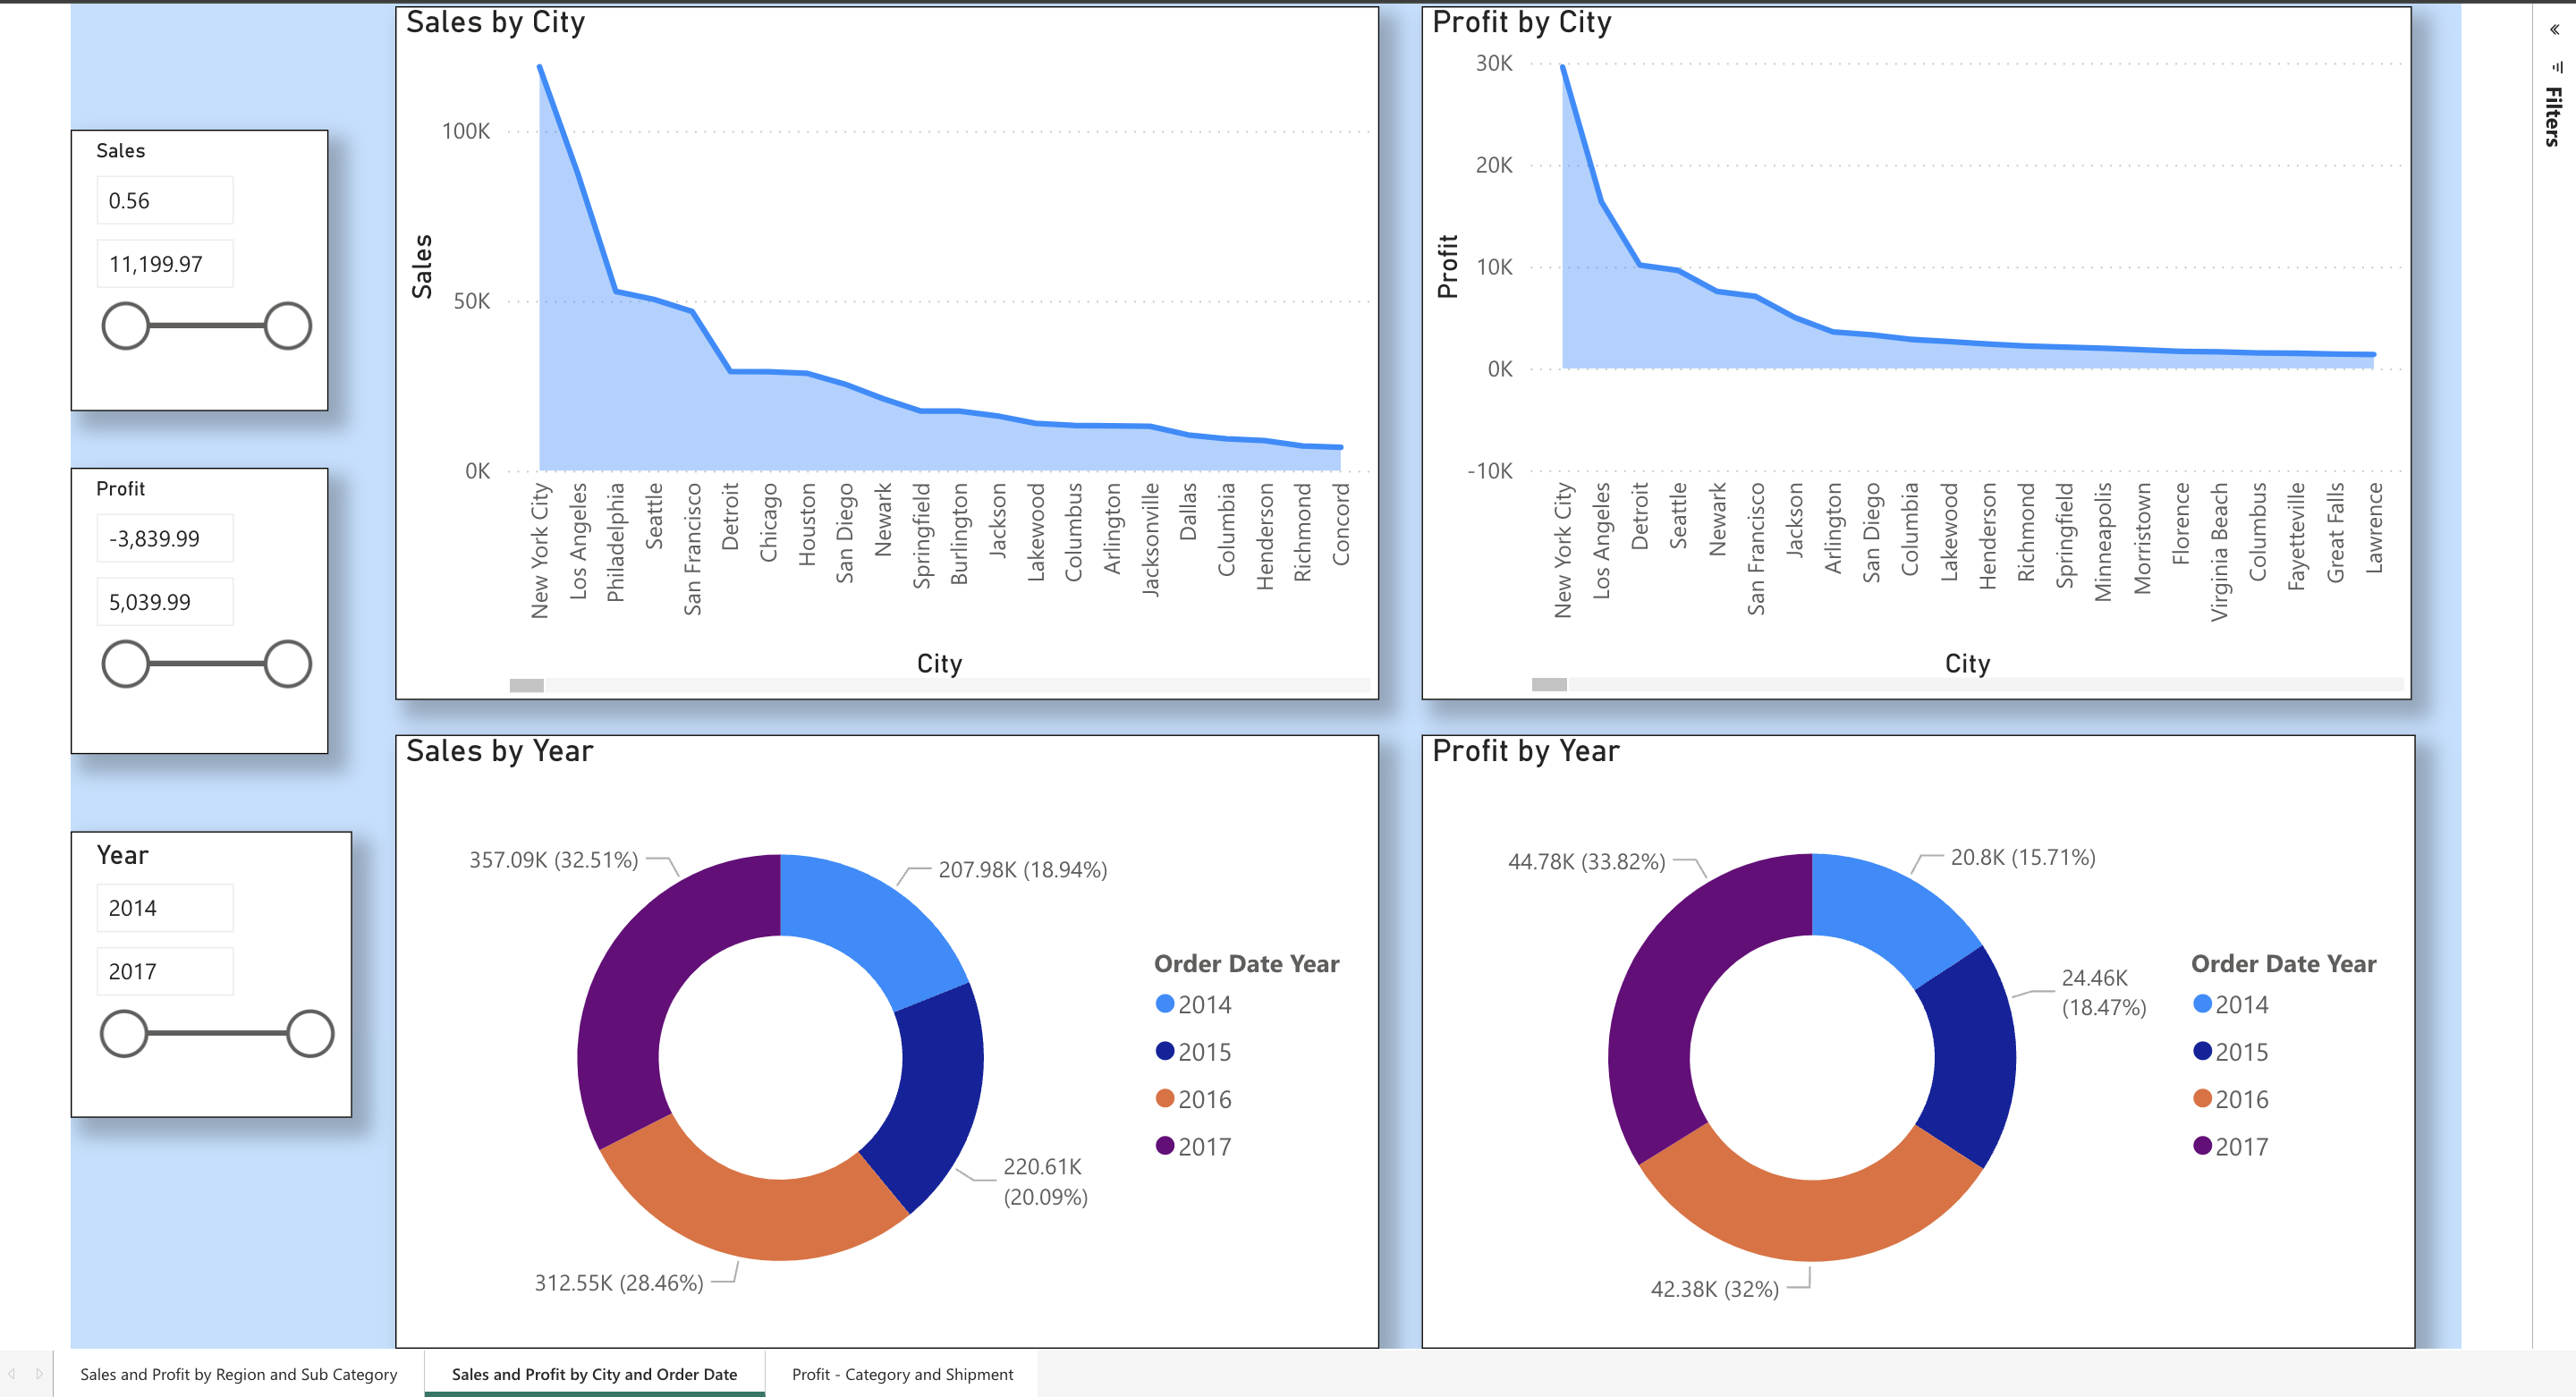

The page's visual inventory and layout, read from the dashboard file:
{"tool":"powerbi","page":{"name":"Sales and Profit by City and Order Date","canvas":[1280,720],"ordinal":1},"visuals":[{"type":"stackedAreaChart","fields":{"Category":["Sample - Superstore.City"],"Y":["Sum(Sample - Superstore.Sales)"]},"box":[173.5,1.4,526.4,371.5],"z":0},{"type":"stackedAreaChart","fields":{"Category":["Sample - Superstore.City"],"Y":["Sum(Sample - Superstore.Profit)"]},"box":[722.8,1.4,530.2,371.2],"z":1000},{"type":"donutChart","fields":{"Y":["Sum(Sample - Superstore.Sales)"],"Category":["Sample - Superstore.Order Date.Variation.Date Hierarchy.Year"]},"box":[173.5,391.6,526.4,328.4],"z":2000},{"type":"donutChart","fields":{"Category":["Sample - Superstore.Order Date.Variation.Date Hierarchy.Year"],"Y":["Sum(Sample - Superstore.Profit)"]},"box":[722.9,391.6,532.1,328.4],"z":3000},{"type":"slicer","fields":{"Values":["Sample - Superstore.Sales"]},"box":[0,67.4,137.7,150.6],"z":4000},{"type":"slicer","fields":{"Values":["Sample - Superstore.Profit"]},"box":[0,248.1,137.7,153.5],"z":5000},{"type":"slicer","fields":{"Values":["Sample - Superstore.Order Date.Variation.Date Hierarchy.Year"]},"box":[0,443.2,150.6,153.5],"z":6000}]}

Visuals, with their boxes in screenshot pixels (x1, y1, x2, y2):
stackedAreaChart - Sample - Superstore.City x Sum(Sample - Superstore.Sales): <region>401, 3, 1370, 688</region>
stackedAreaChart - Sample - Superstore.City x Sum(Sample - Superstore.Profit): <region>1413, 3, 2390, 687</region>
donutChart - Sum(Sample - Superstore.Sales) x Sample - Superstore.Order Date.Variation.Date Hierarchy.Year: <region>401, 722, 1370, 1327</region>
donutChart - Sample - Superstore.Order Date.Variation.Date Hierarchy.Year x Sum(Sample - Superstore.Profit): <region>1413, 722, 2394, 1327</region>
slicer - Sample - Superstore.Sales: <region>80, 124, 335, 402</region>
slicer - Sample - Superstore.Profit: <region>80, 457, 335, 741</region>
slicer - Sample - Superstore.Order Date.Variation.Date Hierarchy.Year: <region>80, 817, 358, 1100</region>
